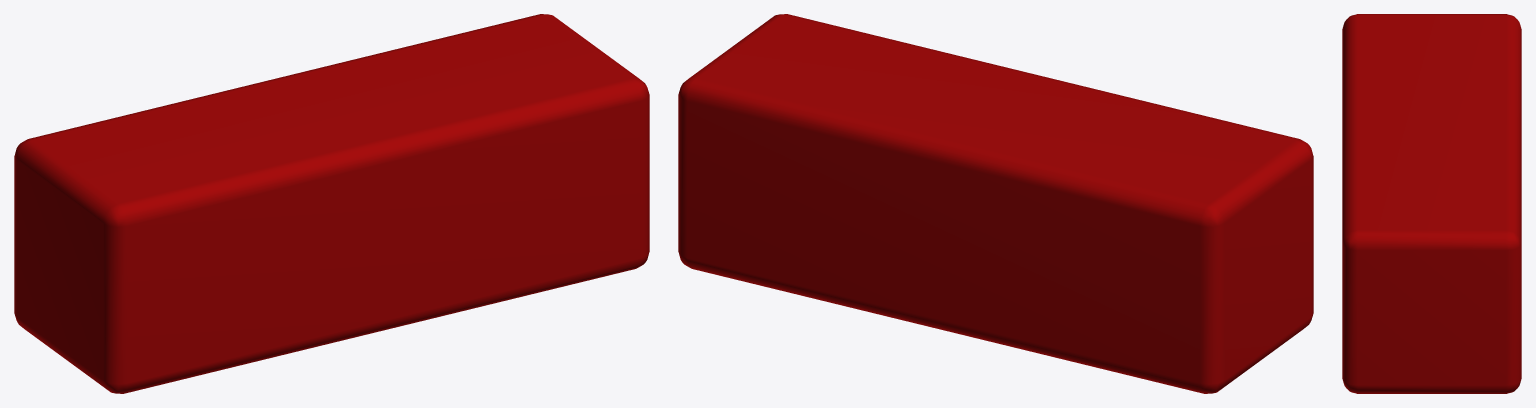
File: buz3.glb
3 renders of one model, left to right at view 1: azimuth 30°, elevation 25°; view 2: azimuth 150°, elevation 25°; view 3: azimuth 270°, elevation 25°, orthographic. The views are drawn at different scales.
Visible parts, largest first — view 1: buz3; view 2: buz3; view 3: buz3.
Part boxes in pixels (x1=…): buz3: x1=14, y1=14, x2=649, y2=393; buz3: x1=678, y1=14, x2=1313, y2=393; buz3: x1=1342, y1=14, x2=1521, y2=393.
Bounding box in the file's own units: 4.6 × 1.53 × 1.53.
